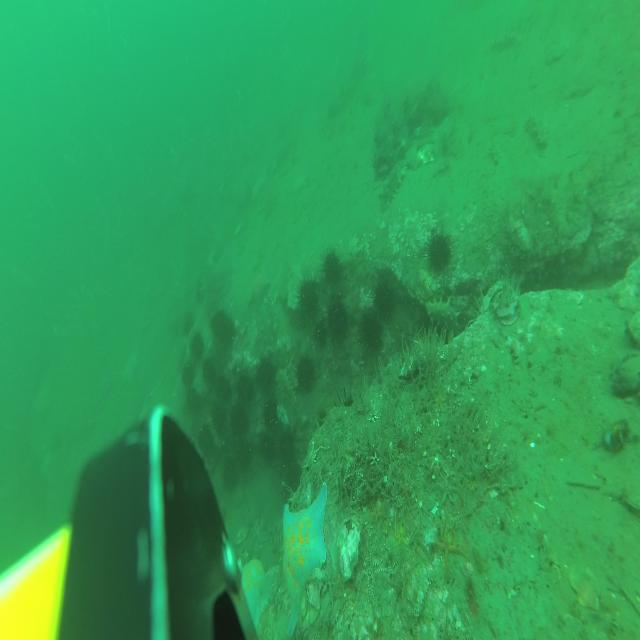echinus: (424, 226, 454, 279), (357, 305, 383, 358), (335, 389, 360, 432), (326, 295, 349, 341), (298, 277, 320, 324), (321, 245, 342, 289), (374, 281, 396, 323), (275, 428, 296, 469), (230, 402, 248, 440), (258, 430, 277, 466), (257, 356, 275, 392), (284, 462, 302, 498), (297, 354, 315, 390), (198, 426, 216, 459), (237, 371, 254, 404), (235, 439, 253, 470), (221, 457, 236, 494), (189, 329, 203, 365), (313, 321, 329, 351), (212, 403, 225, 438), (262, 396, 276, 428), (210, 308, 225, 336), (317, 409, 332, 436), (203, 355, 216, 385), (221, 319, 236, 345), (218, 374, 231, 402), (187, 386, 199, 416), (180, 362, 193, 386), (182, 313, 192, 336)
holothurian: (424, 297, 461, 342), (380, 157, 408, 214), (524, 113, 548, 150), (276, 368, 298, 406), (270, 516, 295, 548), (492, 30, 520, 54), (487, 141, 500, 168)
scallop: (570, 563, 600, 610), (550, 35, 572, 63), (418, 141, 438, 166), (231, 526, 249, 548), (230, 485, 243, 511)
starfish: (283, 478, 328, 637), (239, 559, 269, 634), (431, 522, 469, 578), (248, 268, 270, 314), (394, 514, 412, 550), (370, 502, 384, 528)
